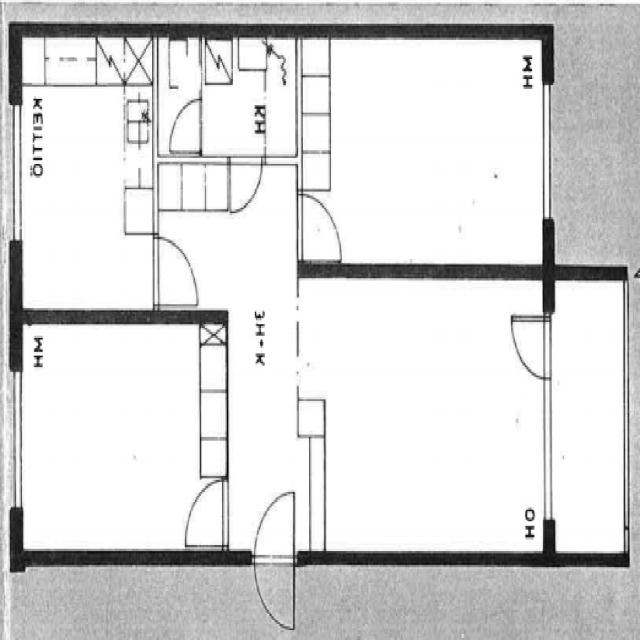door: (250, 486, 300, 634), (150, 225, 204, 315), (294, 184, 348, 265), (180, 472, 232, 550), (506, 305, 555, 379), (165, 90, 207, 158), (224, 152, 265, 216)
window: (2, 356, 32, 522), (3, 94, 30, 252), (538, 319, 558, 531), (536, 78, 560, 232)
zone: (295, 274, 553, 561), (303, 34, 552, 276), (13, 316, 230, 559), (15, 31, 158, 319)
